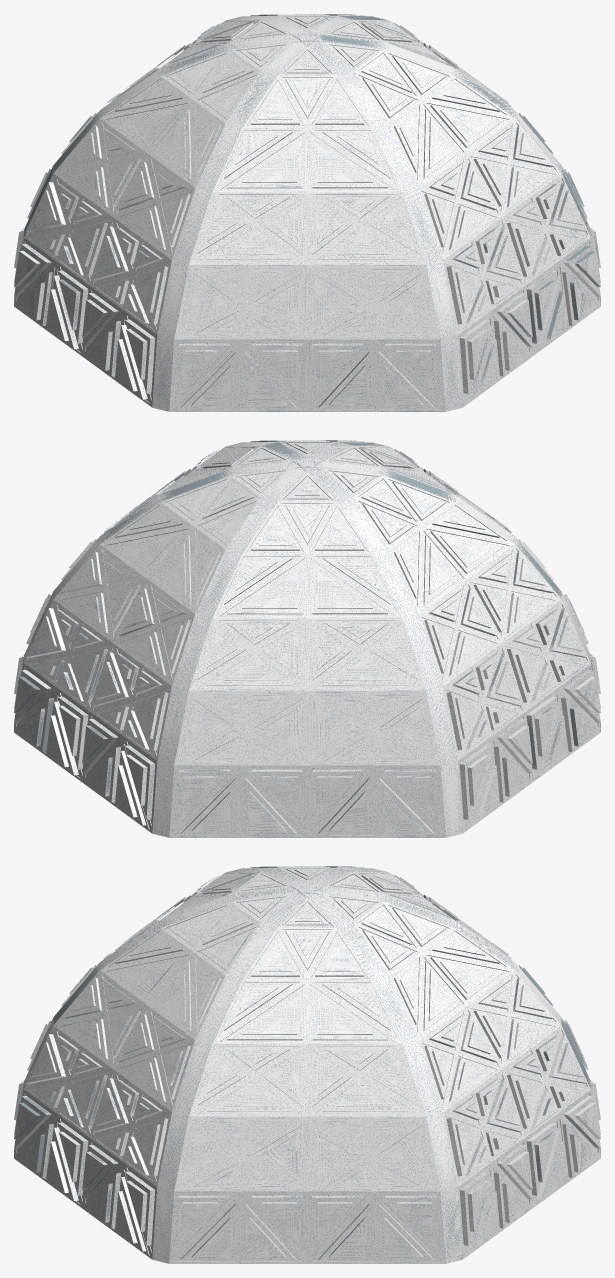
File: uploads_files_3633508_GLASS+PATTERN+DOME.fbx
3 views of the same model, one above another, from view 1: azimuth 30°, elevation 25°; view 2: azimuth 150°, elevation 25°; view 3: azimuth 270°, elevation 25° (orthographic).
Visible parts, largest first — view 1: Group14, Group4, Group2, Group21, Group28, Group13, Group15, Group3, Group23, Group27, Group12, Model (+13 smaller); view 2: Group11, Group38, Group35, Group7, Group21, Group15, Group16, Group37, Group5, Group23, Group20, Model (+13 smaller); view 3: Group22, Group19, Group18, Group28, Group7, Group13, Group16, Group10, Group5, Group27, Group12, Group20 (+13 smaller).
Part boxes in pixels (<box>): Group14: <box>169,339,445,411</box>; Group4: <box>174,264,440,339</box>; Group2: <box>189,192,425,264</box>; Group21: <box>24,174,171,334</box>; Group28: <box>443,174,590,334</box>; Group13: <box>457,238,600,407</box>; Group15: <box>14,238,157,407</box>; Group3: <box>212,128,402,192</box>; Group23: <box>53,119,195,259</box>; Group27: <box>419,119,561,259</box>; Group12: <box>152,15,387,411</box>; Model: <box>227,15,462,411</box>; Group11: <box>169,765,445,837</box>; Group38: <box>174,690,440,765</box>; Group35: <box>189,618,425,690</box>; Group7: <box>24,600,171,760</box>; Group21: <box>443,600,590,760</box>; Group15: <box>457,664,600,833</box>; Group16: <box>14,664,157,833</box>; Group37: <box>212,554,402,618</box>; Group5: <box>53,545,195,685</box>; Group23: <box>419,545,561,685</box>; Group20: <box>227,441,462,837</box>; Model: <box>152,441,387,837</box>; Group22: <box>169,1191,445,1263</box>; Group19: <box>174,1116,440,1191</box>; Group18: <box>189,1044,425,1116</box>; Group28: <box>24,1026,171,1186</box>; Group7: <box>443,1026,590,1186</box>; Group13: <box>14,1090,157,1259</box>; Group16: <box>457,1090,600,1259</box>; Group10: <box>212,980,402,1044</box>; Group5: <box>419,971,561,1111</box>; Group27: <box>53,971,195,1111</box>; Group12: <box>227,867,462,1263</box>; Group20: <box>152,867,387,1263</box>.
Size of the model in its own units: 3336 by 1829 by 3658.
